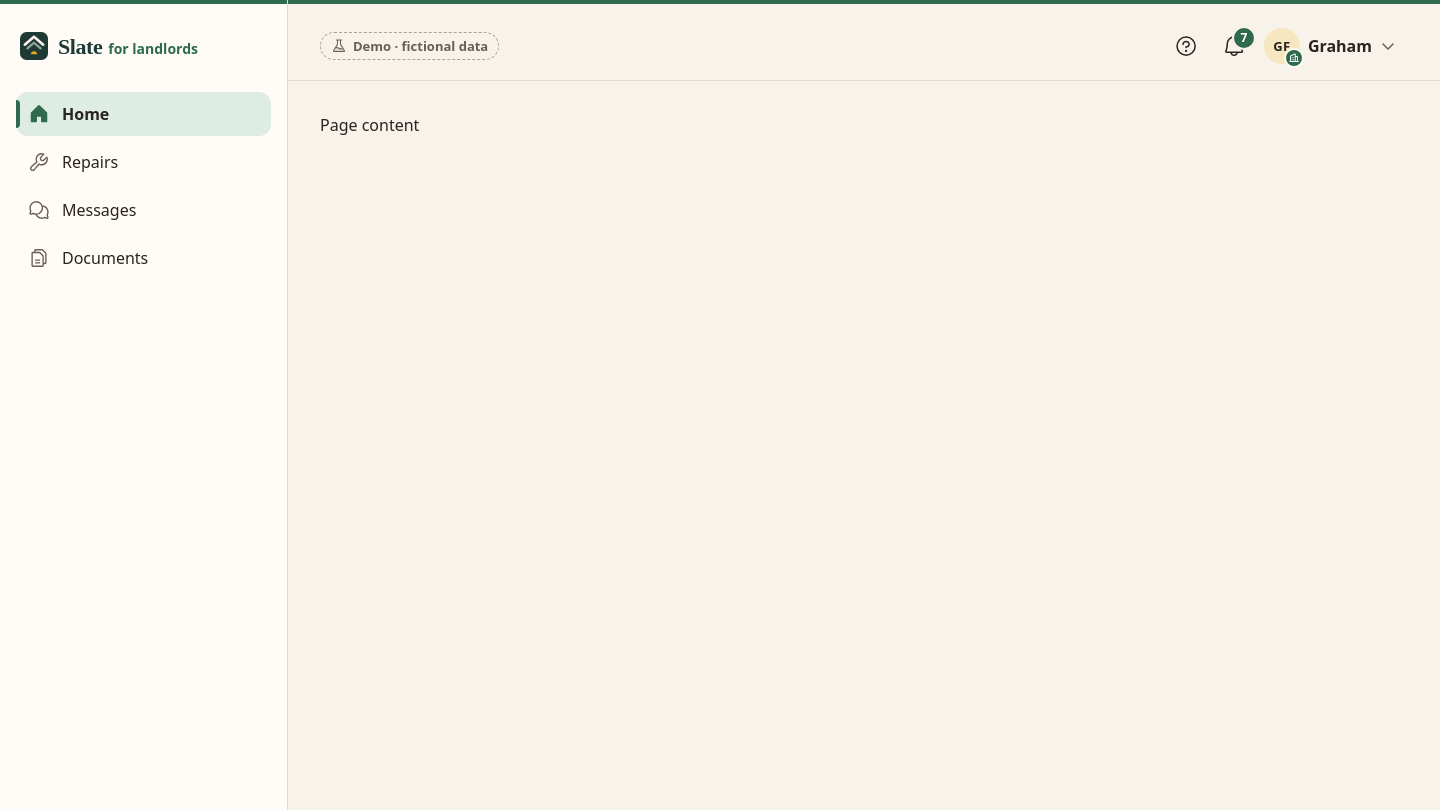
it: header › opens help written for the portal
Click the button named "Help" at (1186, 46), box top-left (1164, 24), bottom-right (1208, 68)
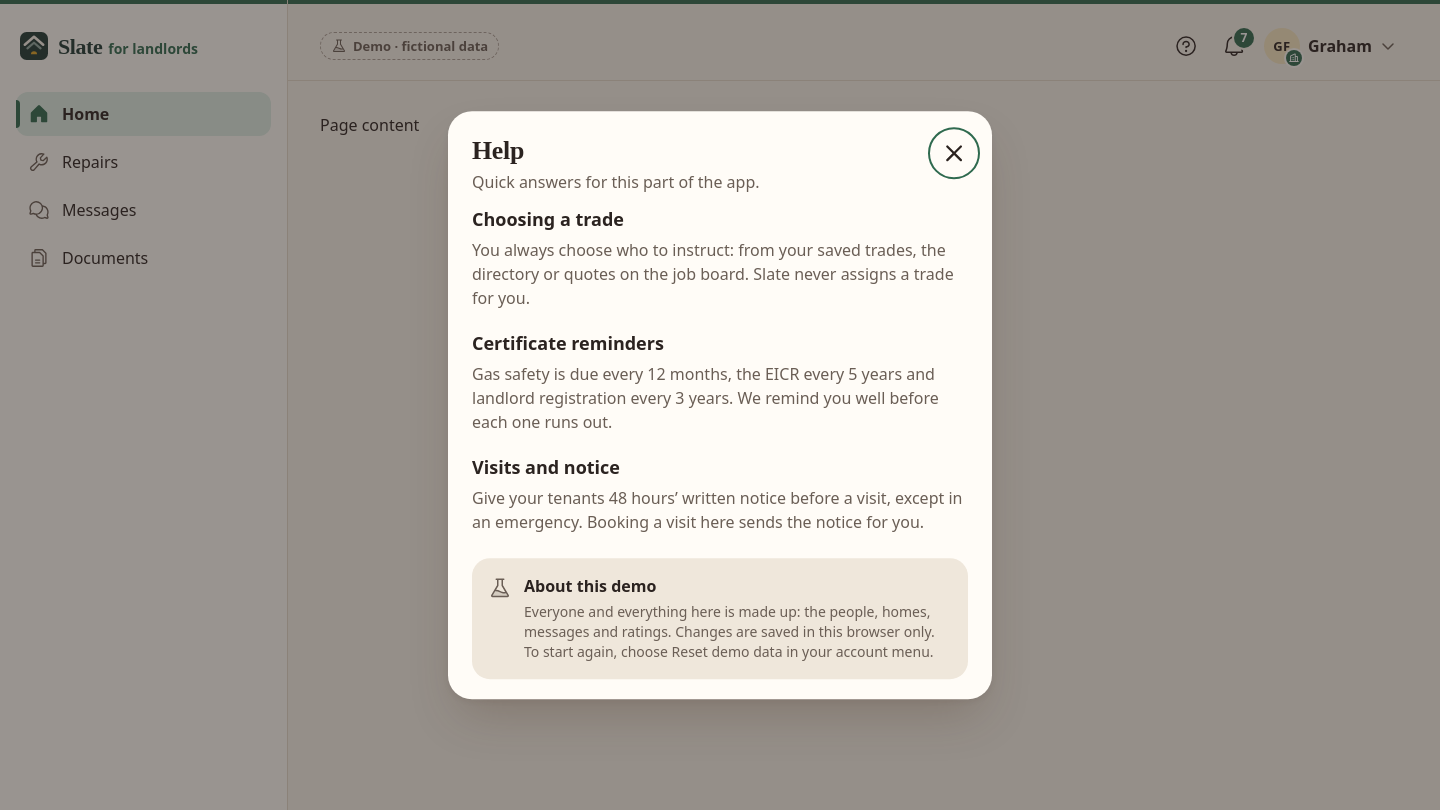
Result: the text "Choosing a trade" is shown at top-left (472, 207), bottom-right (624, 231)
Result: the heading "About this demo" is shown at top-left (524, 575), bottom-right (656, 597)
